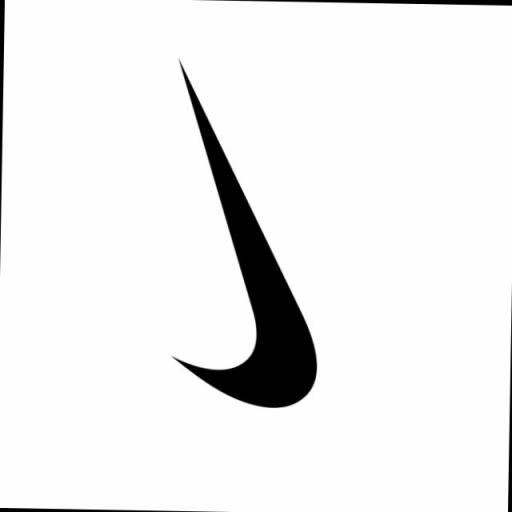Nike: (173, 55, 327, 411)
